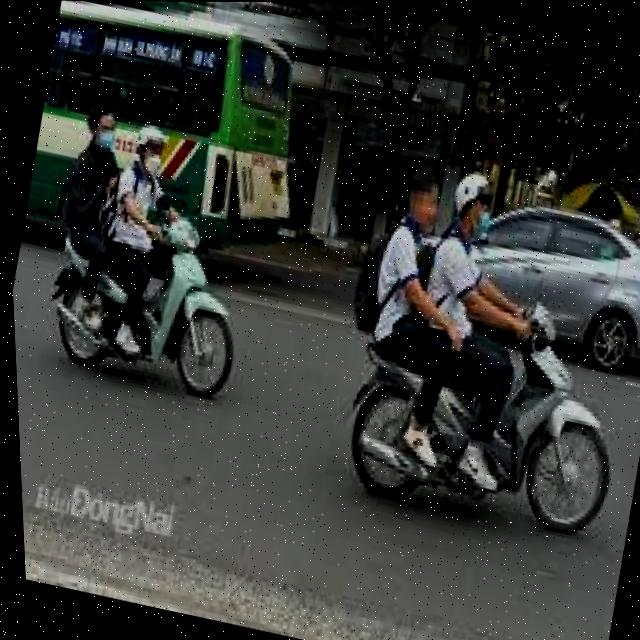car: (14, 0, 336, 278), (357, 164, 640, 376)
motorcycle: (306, 256, 640, 548), (24, 209, 265, 404)
